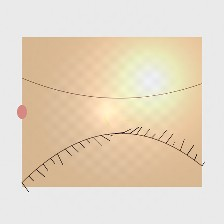corneal_ulcer: (86, 98, 138, 139)
